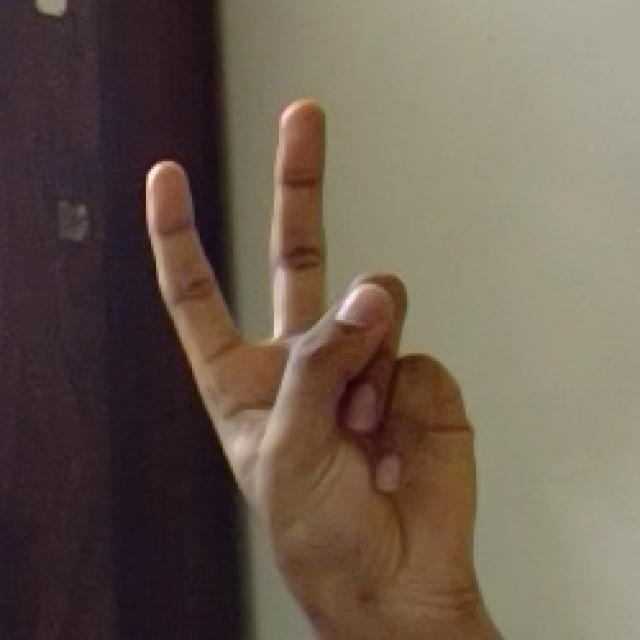Numeric-2: (142, 97, 480, 590)
